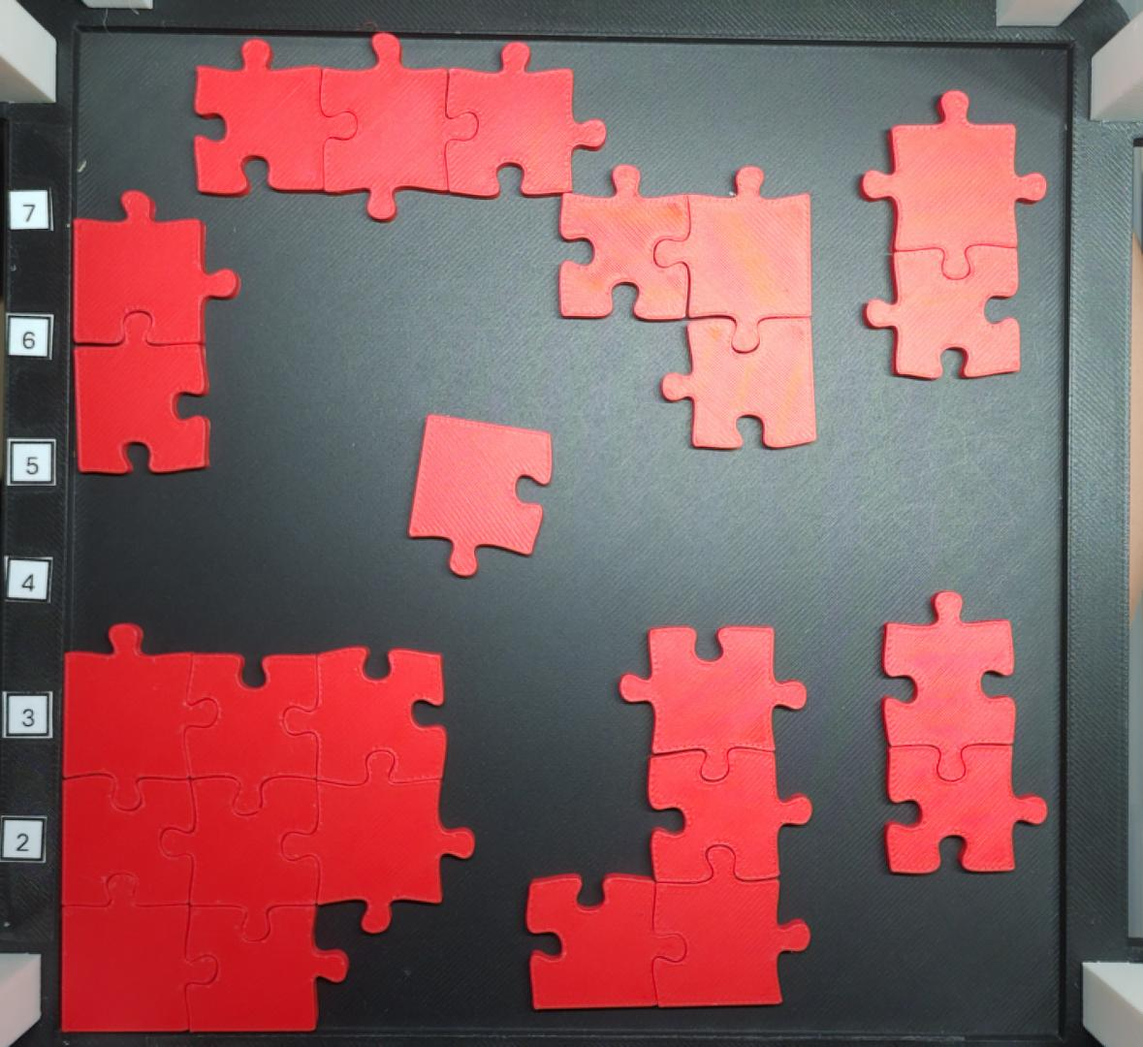p_1: (406, 414, 556, 578)
p_2: (860, 87, 1048, 380), (66, 190, 238, 476), (883, 588, 1049, 877)
p_3: (195, 33, 605, 223), (556, 165, 815, 450)
p_4: (525, 625, 809, 1012)
p_m: (62, 622, 477, 1032)
